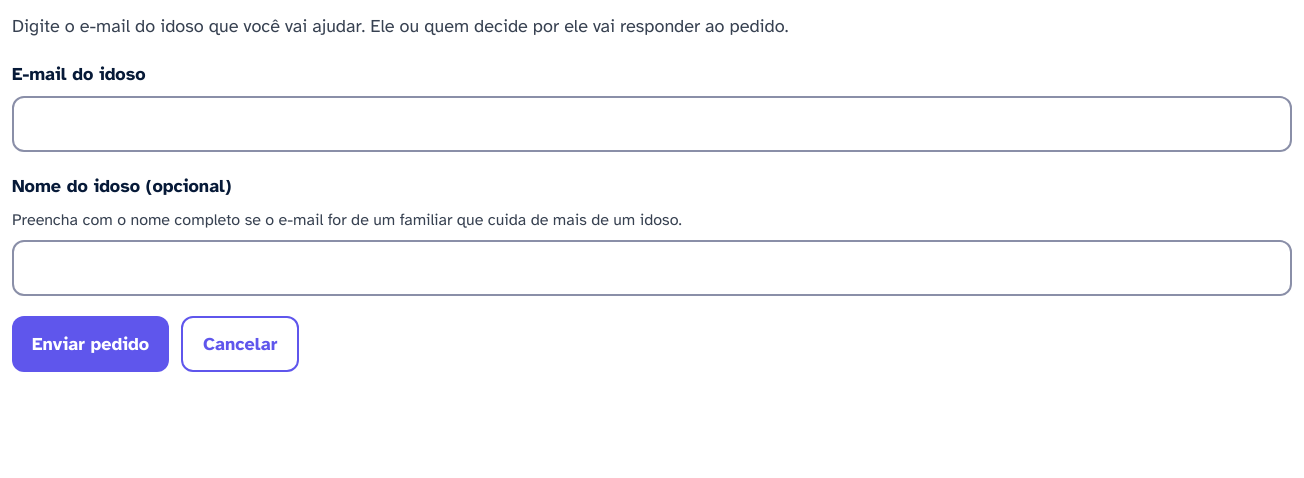
Test: SolicitarVinculo › e-mail inválido () não envia e explica
This screenshot has width=1304, height=478.
Step 1. Click the button "Enviar pedido" → (90, 344), box [12, 316, 169, 372]
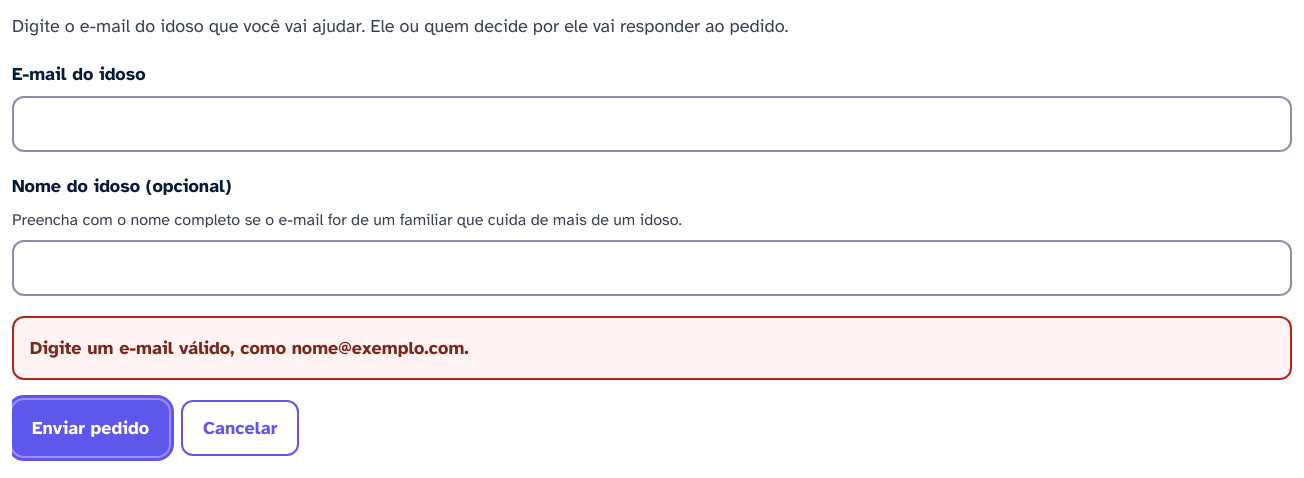
Expected: the message reads "Digite um e-mail válido, como nome@exemplo.com.", [30, 337, 469, 359]
